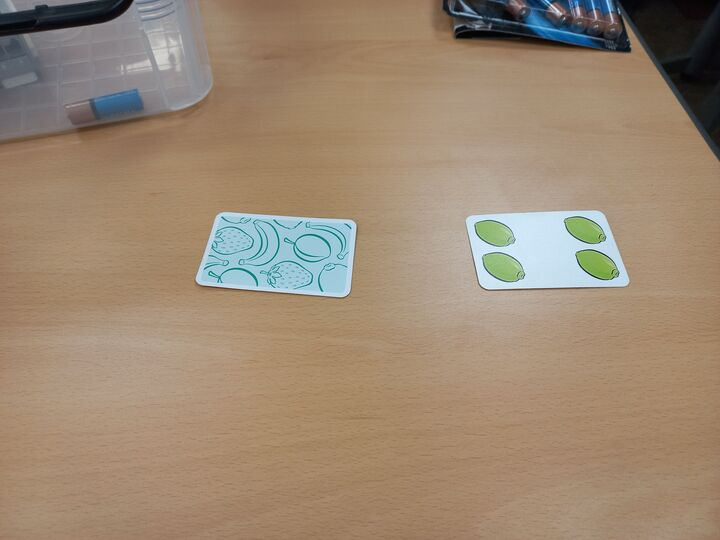lime4: (461, 210, 632, 291)
